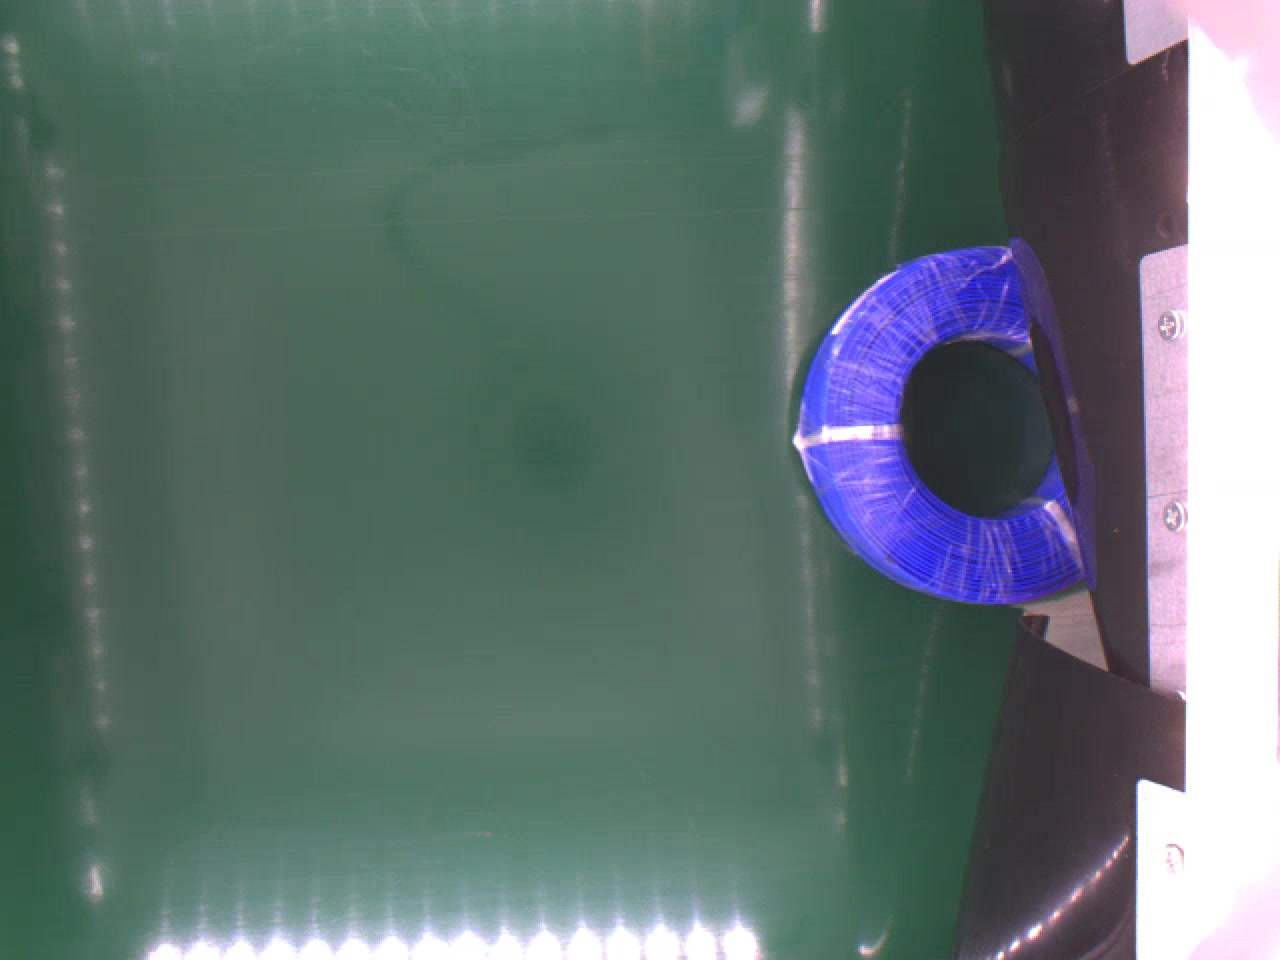blue: (790, 243, 1085, 601)
